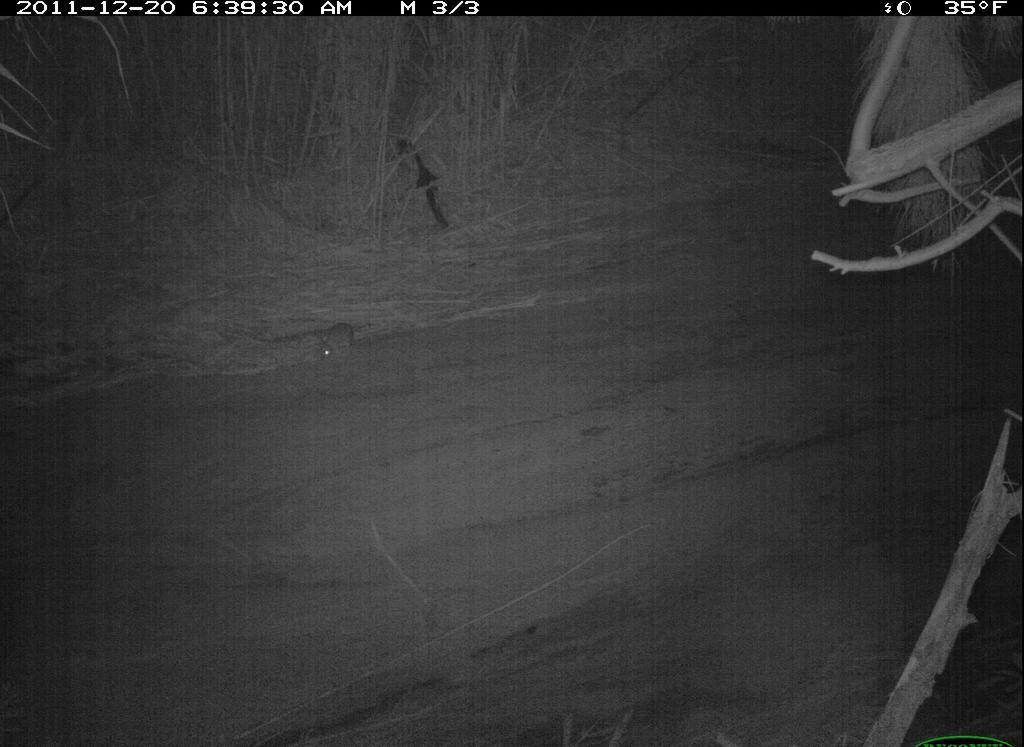rabbit: (308, 313, 372, 376)
